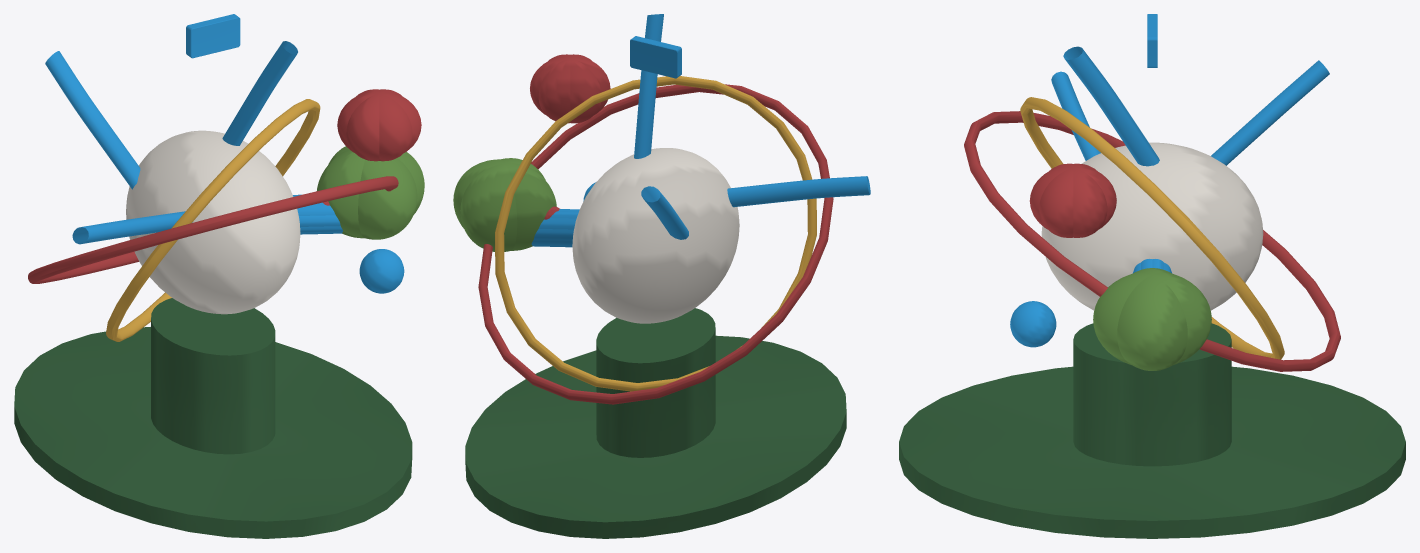
Rendered from 0515_生活中的化学图鉴_石墨.glb.
The picture shows the model from 3 angles, left to right: view 1: azimuth 30°, elevation 25°; view 2: azimuth 150°, elevation 25°; view 3: azimuth 270°, elevation 25°; orthographic projection. The views are drawn at different scales.
Visible parts, largest first — view 1: card_0515; view 2: card_0515; view 3: card_0515.
Part boxes in pixels (x1,y1,x2,y2): card_0515: (14, 14, 424, 538); card_0515: (453, 14, 870, 538); card_0515: (899, 14, 1405, 538).
Size of the model in its own units: 0.9683 by 1 by 1.06.
